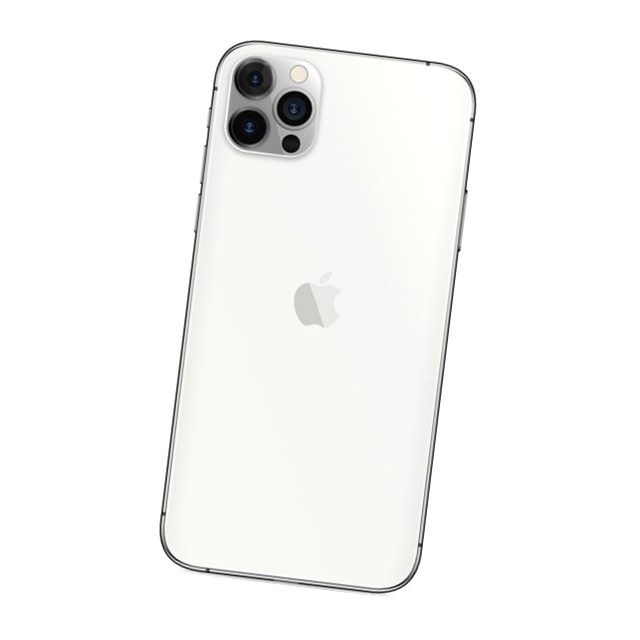iphone_12pro_silver: (167, 21, 495, 600), (225, 57, 334, 169)
